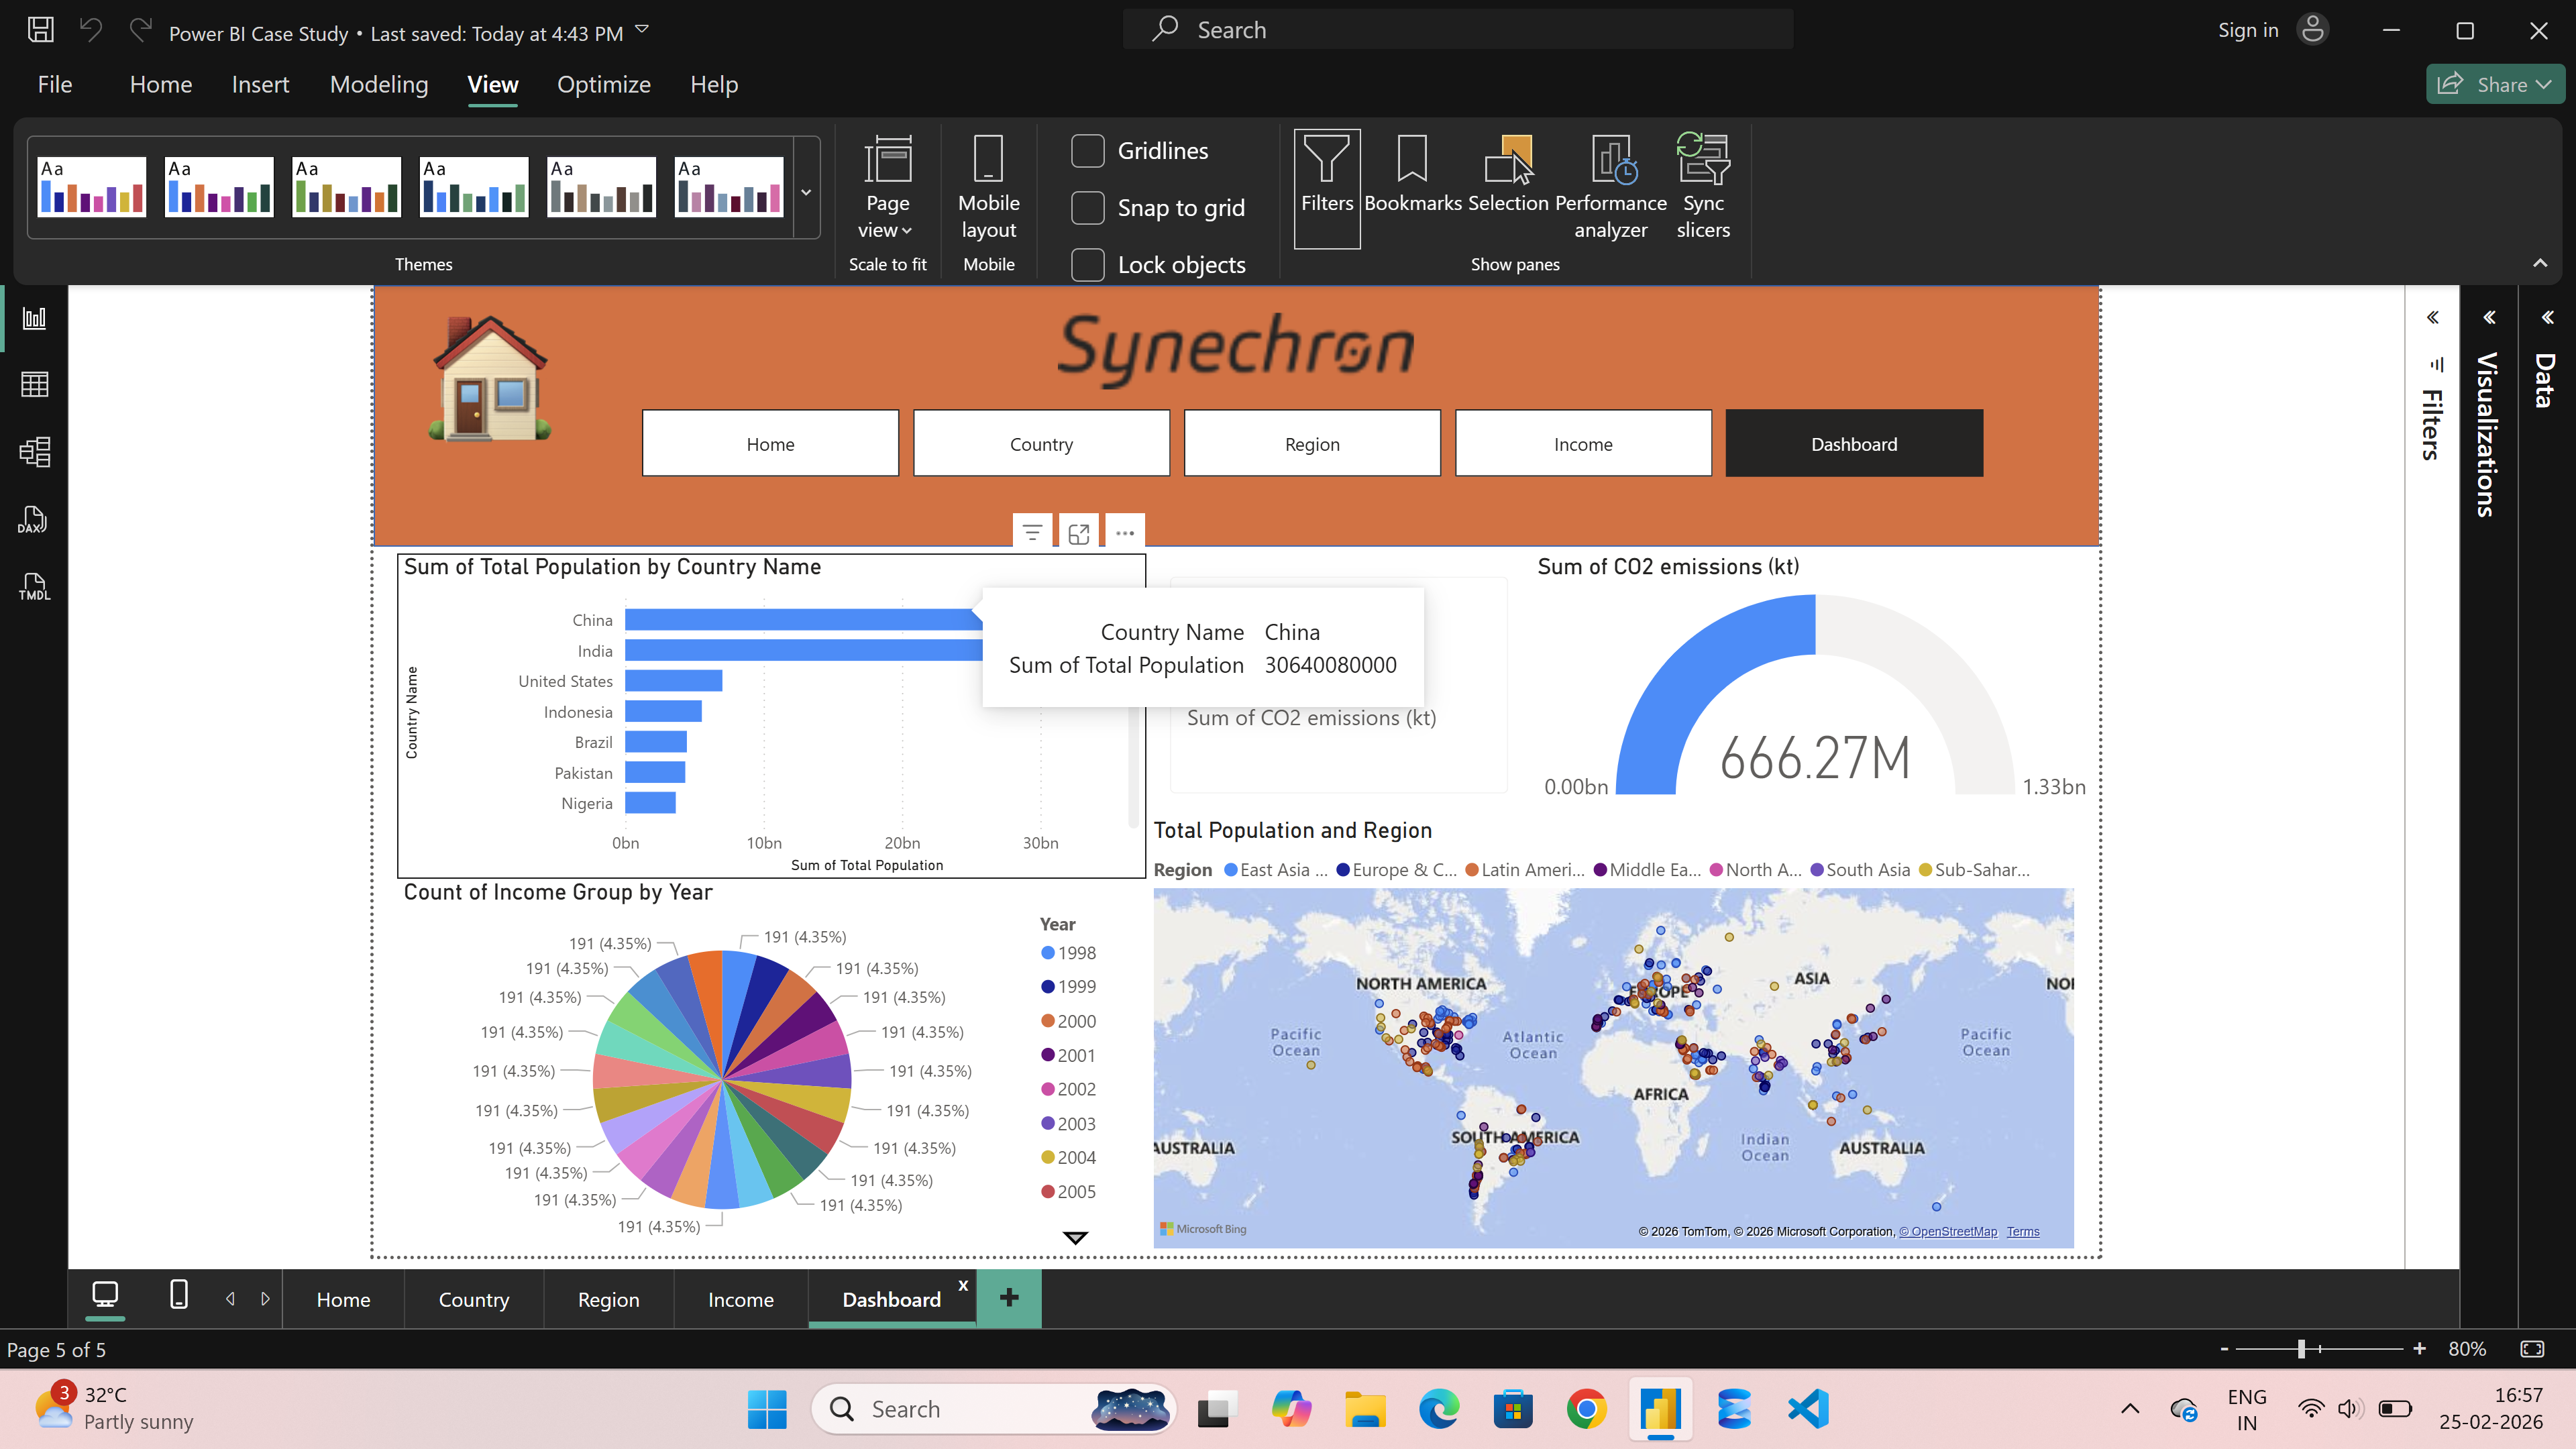

This screenshot's page, from the dashboard's own definition file:
{"tool":"powerbi","page":{"name":"Dashboard","canvas":[1280,720],"ordinal":4},"visuals":[{"type":"shape","box":[0,0,1280.6,194],"z":0},{"type":"image","box":[31.3,19.4,110.4,98.5],"z":1000},{"type":"pageNavigator","box":[198.5,92.5,1000,50.7],"z":2000},{"type":"image","box":[507.5,4.5,264.2,88.1],"z":3000},{"type":"barChart","fields":{"Category":["data.Country Name"],"Y":["Sum(data.Total Population)"]},"box":[17.9,198.5,555.2,241.8],"z":4000},{"type":"map","fields":{"Category":["data.Total Population"],"Series":["data.Region"]},"box":[573.1,394,692.5,325.4],"z":5000},{"type":"pieChart","fields":{"Y":["CountNonNull(data.Income Group)"],"Category":["data.Year"]},"box":[17.9,440.3,532.8,279.1],"z":6000},{"type":"cardVisual","fields":{"Data":["Sum(data.CO2 emissions (kt))"]},"box":[573.1,198.5,285.1,195.5],"z":7000},{"type":"gauge","fields":{"Y":["Sum(data.CO2 emissions (kt))"]},"box":[858,199,422,195],"z":8000}]}

Visuals, with their boxes on the page's 1280x720 design canvas (x1, y1, x2, y2). These are canvas units, not pixel positions in the 2576x1449 screenshot, which may show the page scaled, cropped or inside an application window:
shape: bbox=[0, 0, 1281, 194]
image: bbox=[31, 19, 142, 118]
pageNavigator: bbox=[198, 92, 1198, 143]
image: bbox=[508, 4, 772, 93]
barChart - data.Country Name x Sum(data.Total Population): bbox=[18, 198, 573, 440]
map - data.Total Population x data.Region: bbox=[573, 394, 1266, 719]
pieChart - CountNonNull(data.Income Group) x data.Year: bbox=[18, 440, 551, 719]
cardVisual - Sum(data.CO2 emissions (kt)): bbox=[573, 198, 858, 394]
gauge - Sum(data.CO2 emissions (kt)): bbox=[858, 199, 1280, 394]
